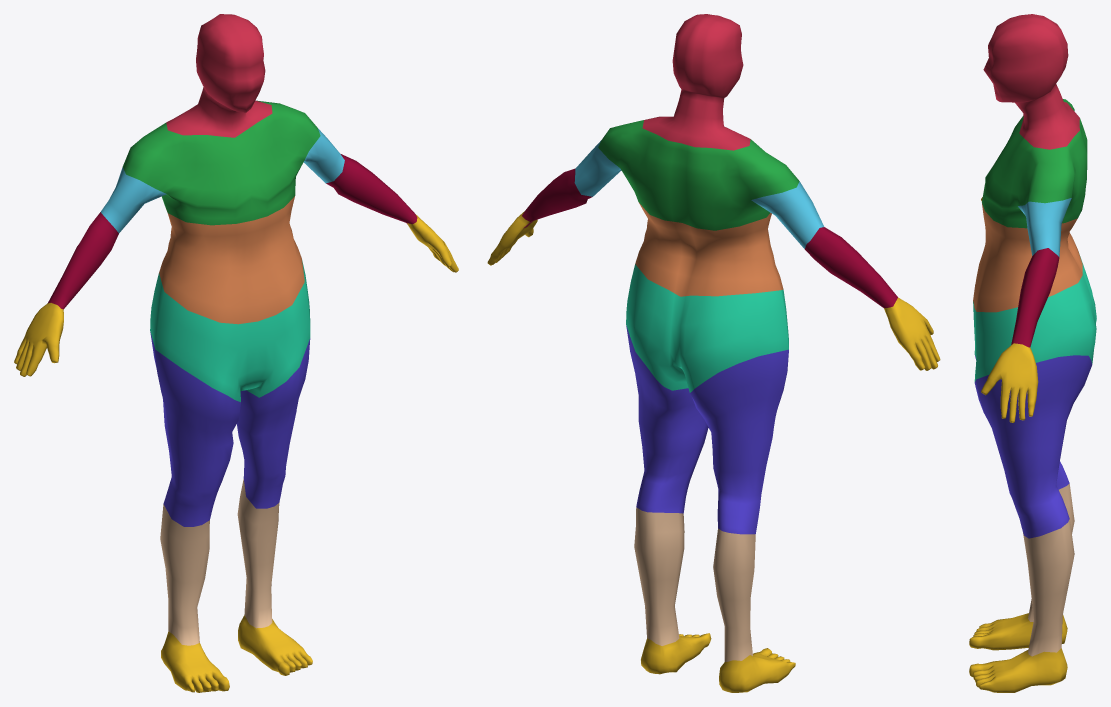
File: body_5.glb
3 views of the same model, side by side, from view 1: azimuth 30°, elevation 25°; view 2: azimuth 150°, elevation 25°; view 3: azimuth 270°, elevation 25° (orthographic).
Parts seen in each view (by area): view 1: body; view 2: body; view 3: body.
Part boxes in pixels (<box>): body: <box>14,14,458,692</box>; body: <box>487,14,940,692</box>; body: <box>969,14,1096,692</box>.
Size of the model in its own units: 1.24 by 1.76 by 0.3132.
